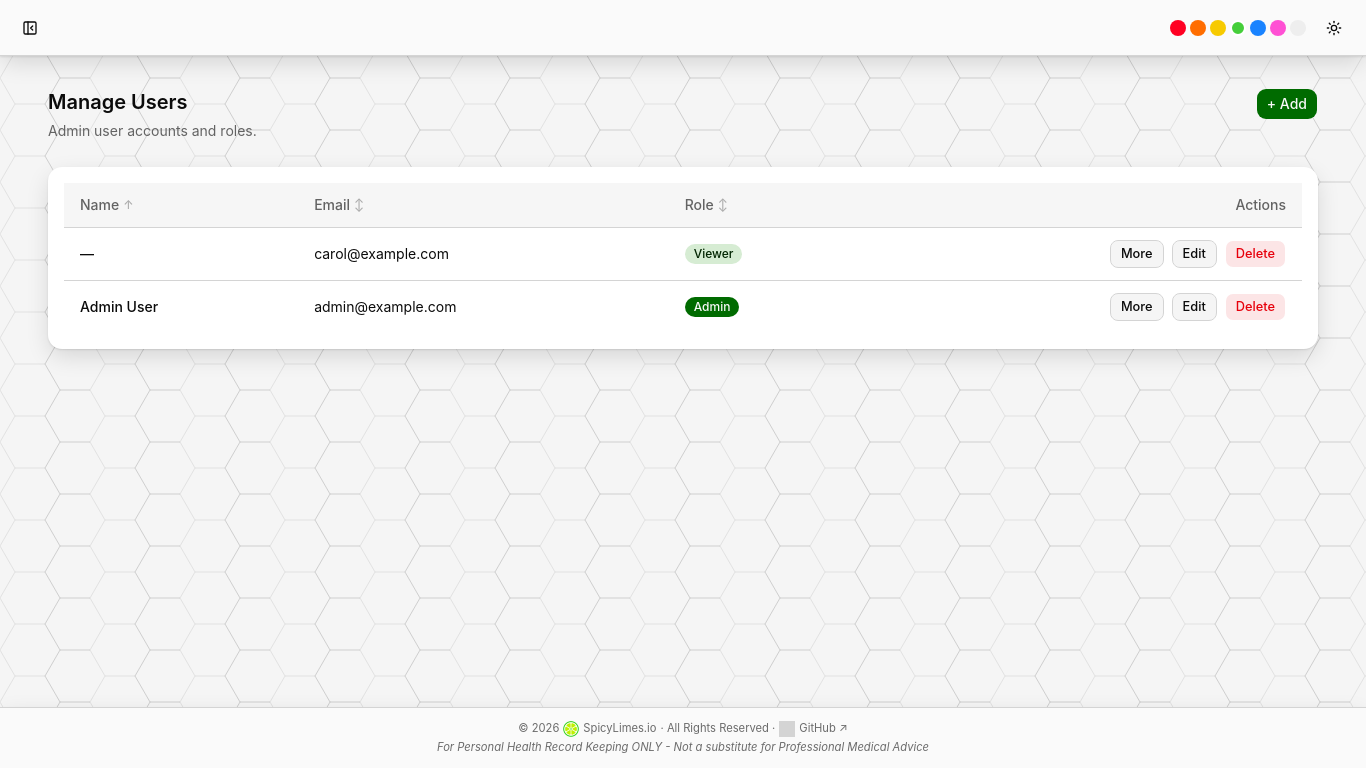
Test: UsersPage › closes the modal when Cancel is clicked
Click the button "Edit" in the row of "carol@example.com".
click(1194, 254)  # box [1172,240,1217,268]
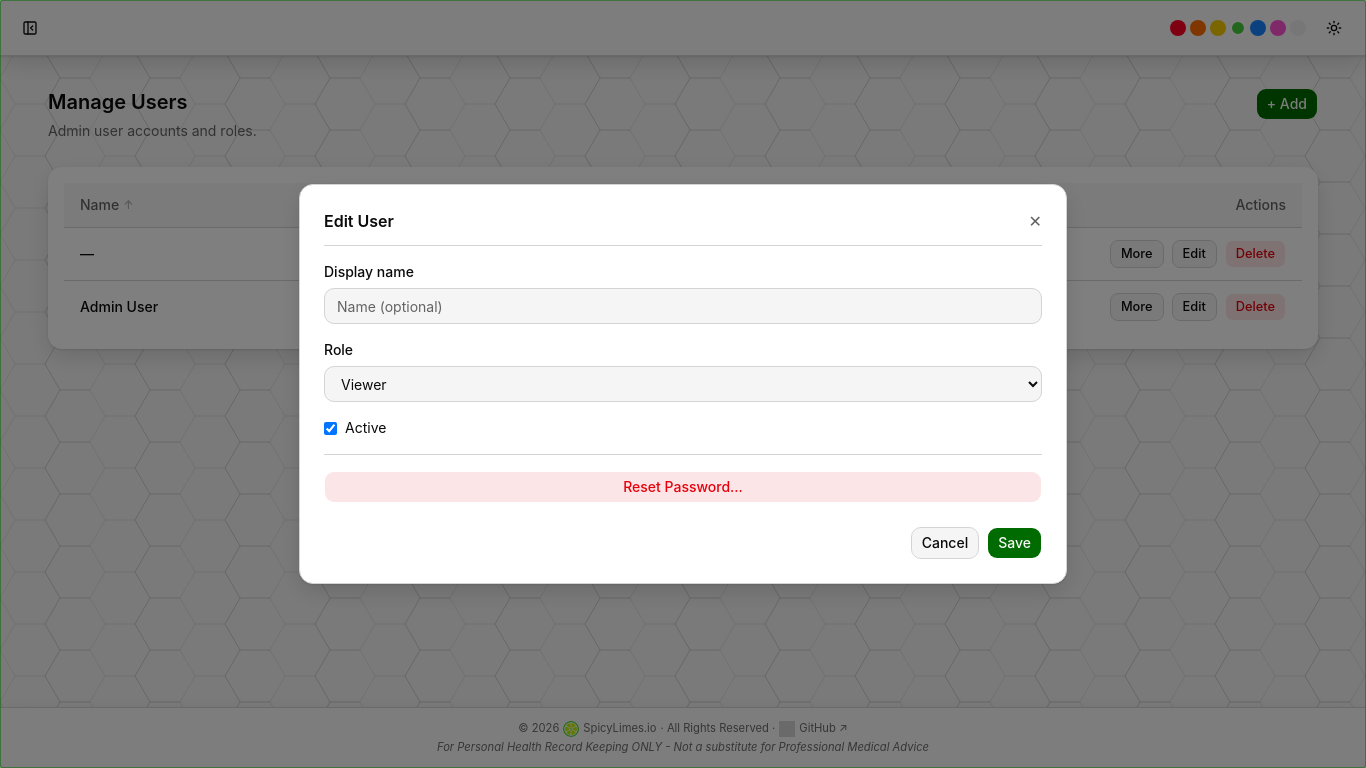
Check: the dialog is shown
Click the button "Cancel".
click(945, 543)  # box [911,527,979,559]
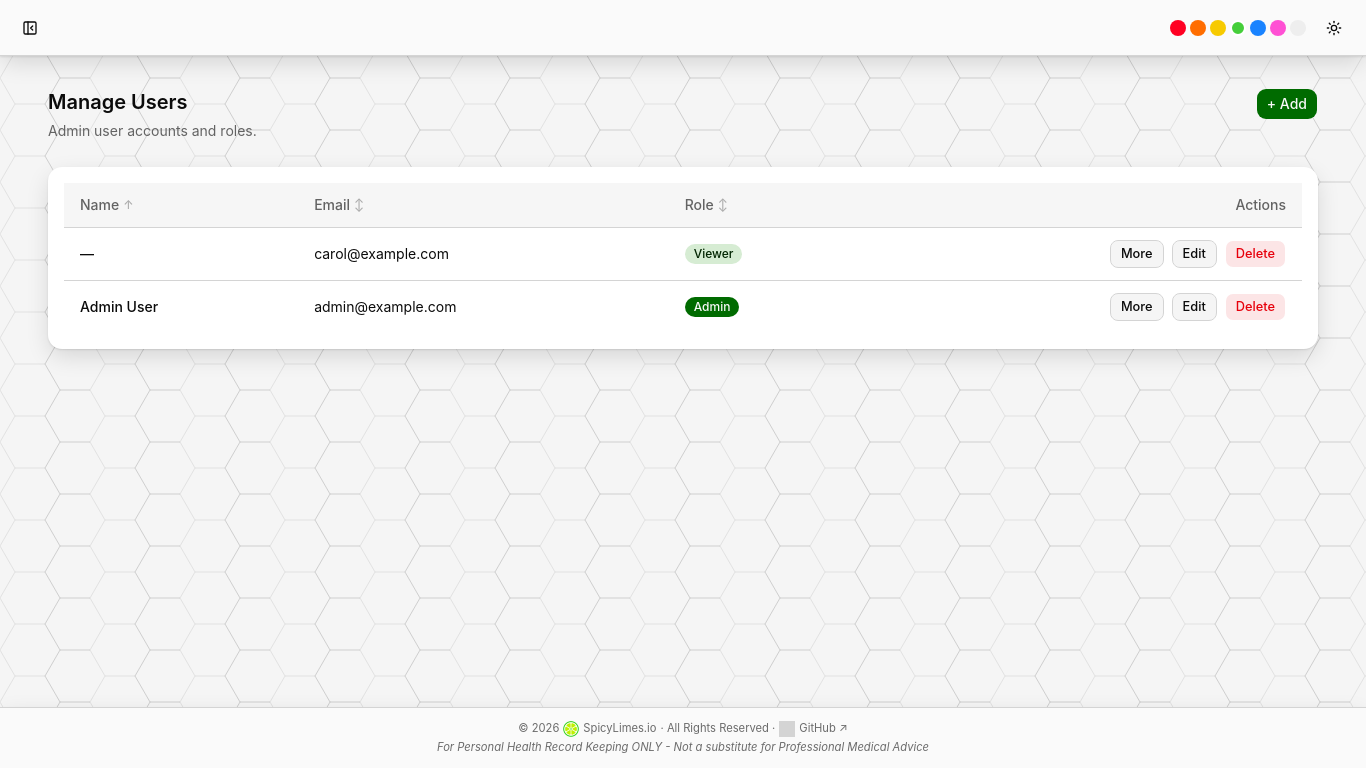
Check: the dialog is gone
